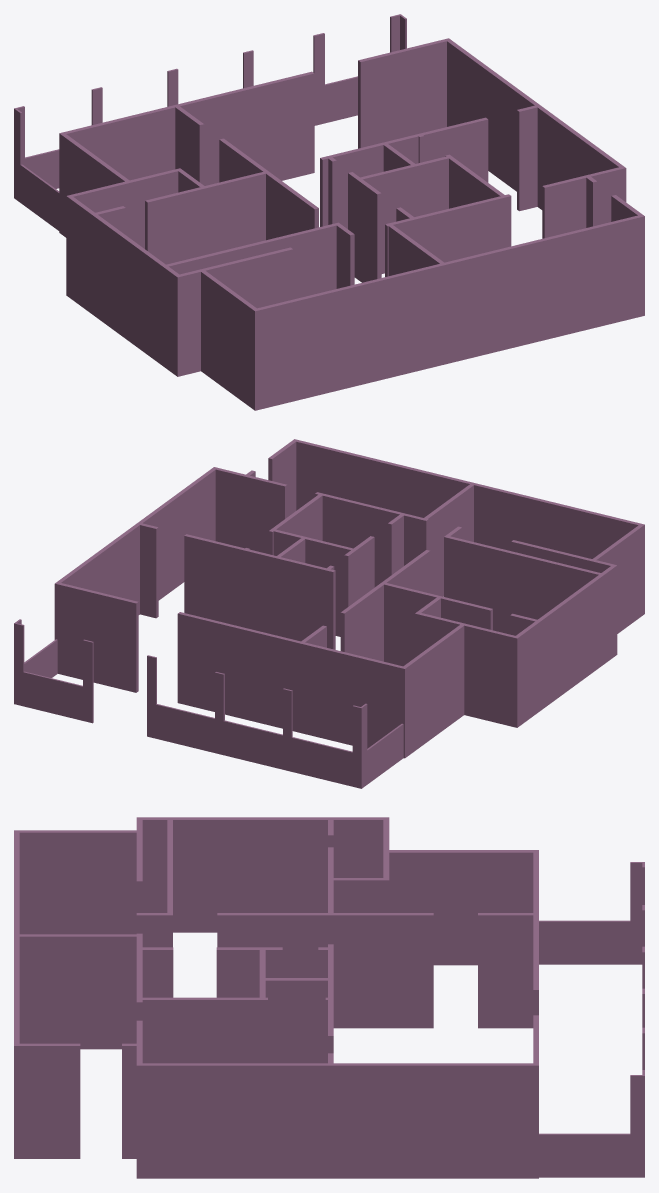
Rendered from tbcHouse-01Colliders.fbx.
The picture shows the model from 3 angles, top to bottom: view 1: azimuth 30°, elevation 25°; view 2: azimuth 150°, elevation 25°; view 3: azimuth 270°, elevation 25°; orthographic projection. The views are drawn at different scales.
Parts seen in each view (by area): view 1: 1stFloorWallRtOut.008, 1stFloorWallRtOut.001, 1stFloorWallRtInter.003, 1stFloorWallRtInter.002, 1stFloorWallRtOut.013, 1stFloorWallRtOut.002, 1stFloorWallRtOut.005, 1stFloorWallRtOut.007, 1stFloorWallRtOut.010, 1stFloorWallRtOut.011, 1stFloorWallRtOut.004, 1stFloorWallRtOut.015 (+18 smaller); view 2: 1stFloorWallRtOut.001, 1stFloorWallRtOut.008, 1stFloorWallRtOut.010, 1stFloorWallRtOut.016, 1stFloorWallRtInter.003, 1stFloorWallRtOut.011, 1stFloorWallRtInter.002, 1stFloorWallRtOut.002, 1stFloorWallRtOut.006, 1stFloorWallRtOut, 1stFloorWallRtOut.003, 1stFloorWallRtOut.004 (+16 smaller); view 3: 1stFloorWallRtInter.002, 1stFloorWallRtInter.003, 1stFloorWallRtInter, 1stFloorWallRtInter.006, 1stFloorWallRtOut.007, 1stFloorWallRtOut, 1stFloorWallRtInter.012, 1stFloorWallRtOut.009, 1stFloorWallRtInter.001, 1stFloorWallRtOut.017, 1stFloorWallRtOut.020, 1stFloorWallRtInter.011 (+13 smaller).
Part boxes in pixels (box(x1,y1,x2,y2)): 1stFloorWallRtOut.008: box(252, 215, 644, 410); 1stFloorWallRtOut.001: box(59, 71, 314, 234); 1stFloorWallRtInter.003: box(69, 197, 181, 376); 1stFloorWallRtInter.002: box(447, 40, 626, 209); 1stFloorWallRtOut.013: box(145, 172, 265, 264); 1stFloorWallRtOut.002: box(358, 38, 450, 148); 1stFloorWallRtOut.005: box(175, 247, 293, 376); 1stFloorWallRtOut.007: box(201, 270, 259, 410); 1stFloorWallRtOut.010: box(320, 117, 488, 228); 1stFloorWallRtOut.011: box(161, 223, 340, 366); 1stFloorWallRtOut.004: box(385, 194, 511, 276); 1stFloorWallRtOut.015: box(357, 155, 452, 273); 1stFloorWallRtOut.001: box(177, 612, 407, 758); 1stFloorWallRtOut.008: box(292, 439, 644, 615); 1stFloorWallRtOut.010: box(184, 534, 335, 649); 1stFloorWallRtOut.016: box(147, 655, 362, 788); 1stFloorWallRtInter.003: box(516, 564, 616, 725); 1stFloorWallRtOut.011: box(444, 535, 605, 664); 1stFloorWallRtInter.002: box(57, 467, 217, 614); 1stFloorWallRtOut.002: box(54, 582, 138, 692); 1stFloorWallRtOut.006: box(415, 612, 519, 727); 1stFloorWallRtOut: box(401, 623, 465, 757); 1stFloorWallRtOut.003: box(215, 468, 287, 553); 1stFloorWallRtOut.004: box(315, 492, 428, 587); 1stFloorWallRtInter.002: box(136, 1063, 533, 1178); 1stFloorWallRtInter.003: box(136, 817, 383, 932); 1stFloorWallRtInter: box(217, 913, 433, 1028); 1stFloorWallRtInter.006: box(14, 934, 136, 1049); 1stFloorWallRtOut.007: box(14, 830, 136, 934); 1stFloorWallRtOut: box(384, 850, 533, 965); 1stFloorWallRtInter.012: box(136, 997, 267, 1063); 1stFloorWallRtOut.009: box(14, 1043, 80, 1158); 1stFloorWallRtInter.001: box(478, 913, 533, 1028); 1stFloorWallRtOut.017: box(539, 1075, 644, 1177); 1stFloorWallRtOut.020: box(539, 862, 644, 964); 1stFloorWallRtInter.011: box(259, 978, 327, 1063).
Size of what is drawn, in the model's own units: 1161 by 246 by 1247.
